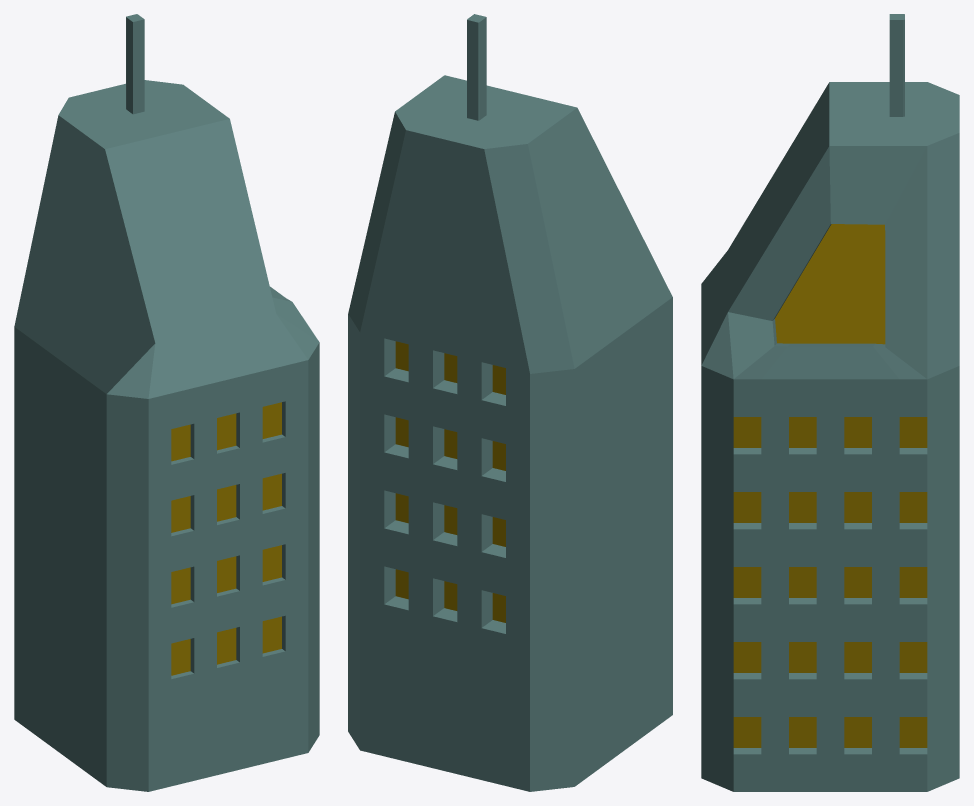
The model's file is homr.fbx.
The picture shows the model from 3 angles, left to right: view 1: azimuth 30°, elevation 25°; view 2: azimuth 150°, elevation 25°; view 3: azimuth 270°, elevation 25°; orthographic projection. The views are drawn at different scales.
Visible parts, largest first — view 1: Cube; view 2: Cube; view 3: Cube.
Boxes of the visible parts, box(x1,y1,x2,y2) form: Cube: box(14, 14, 319, 791); Cube: box(348, 14, 672, 791); Cube: box(701, 14, 959, 791).
Bounding box in the file's own units: 763 × 2348 × 763.
